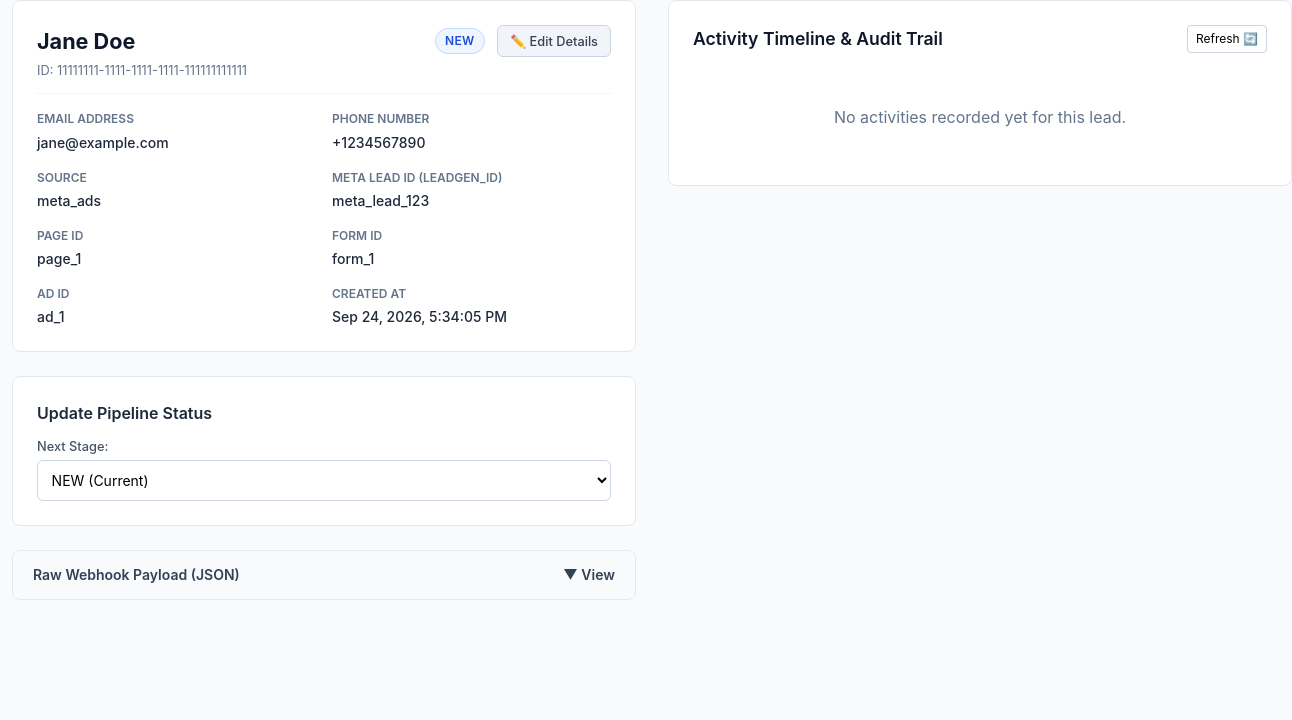
LeadDetail Component › cancels editing and restores view mode
The width and height of the screenshot is (1292, 720).
Click the button "✏️ Edit Details".
click(554, 41)  # box [497,25,611,57]
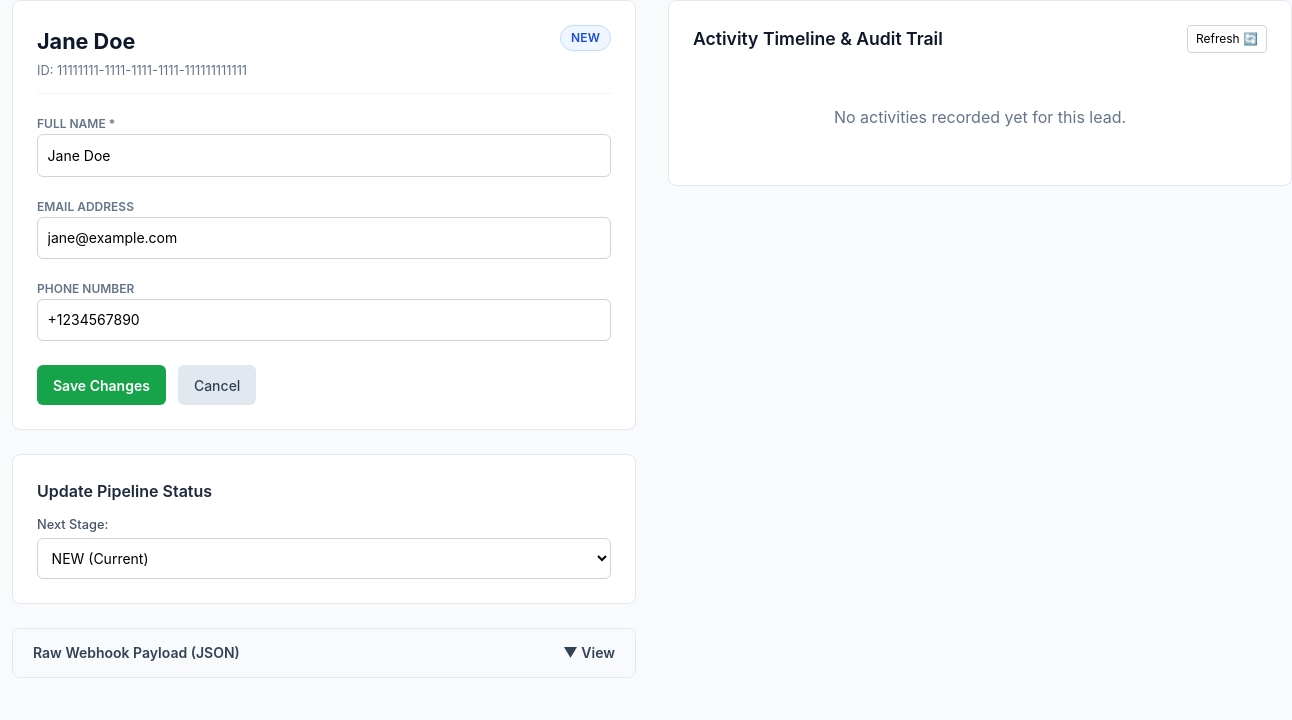
Now the button "Cancel" is shown
Click the button "Cancel".
click(217, 385)  # box [178,365,256,405]
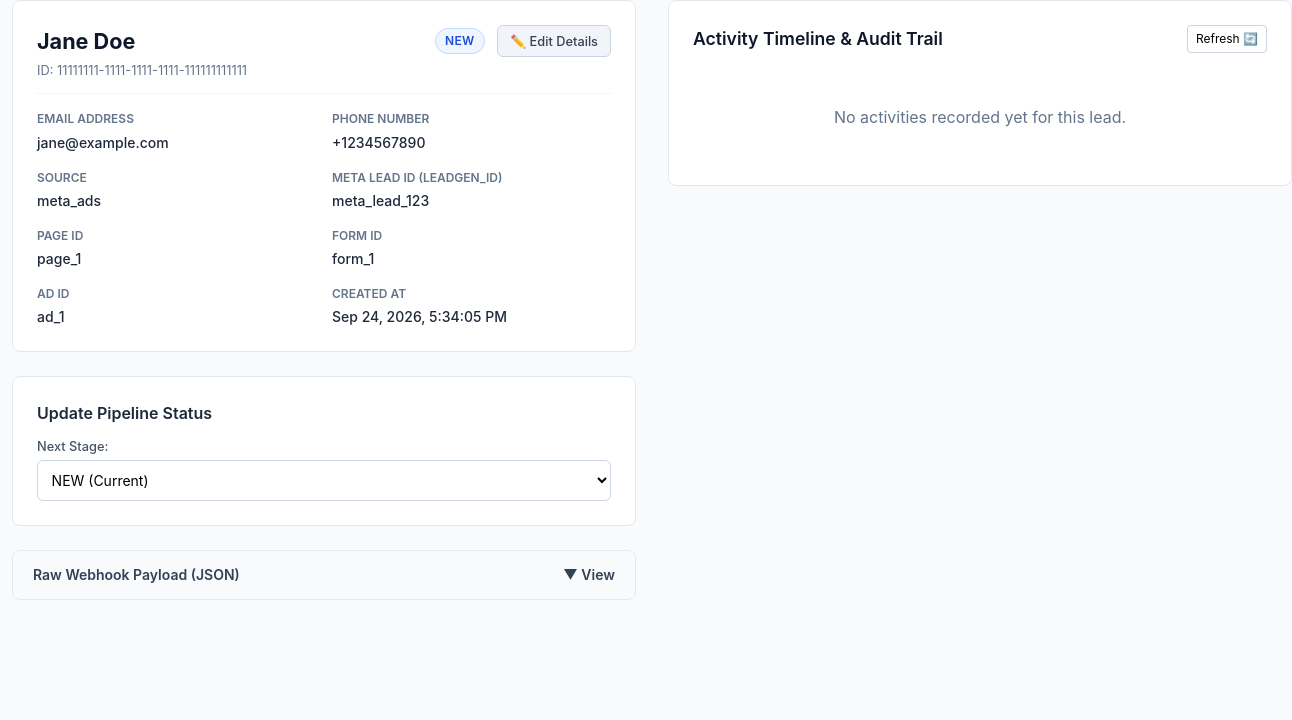
Now the button "✏️ Edit Details" is shown, box [497,25,611,57]
